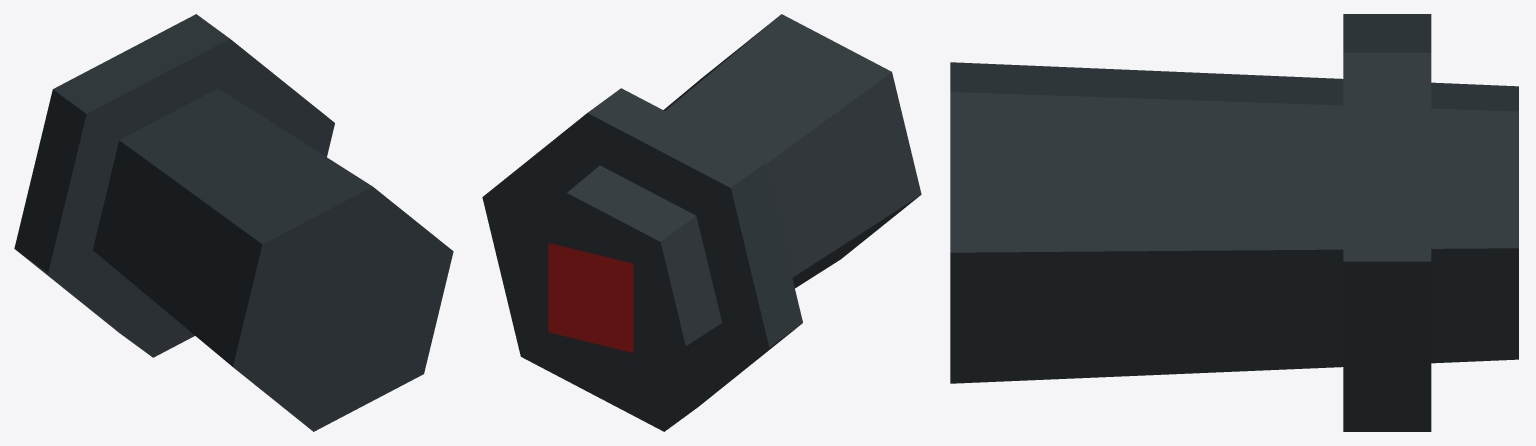
3 views of the same model, side by side, from view 1: azimuth 30°, elevation 25°; view 2: azimuth 150°, elevation 25°; view 3: azimuth 270°, elevation 25° (orthographic). The views are drawn at different scales.
Parts seen in each view (by area): view 1: mount; view 2: mount; view 3: mount.
Part boxes in pixels (x1,y1,x2,y2): mount: (14,14,453,431); mount: (482,14,921,431); mount: (950,14,1518,431).
Bounding box in the file's own units: 4.9 × 4.9 × 6.51.
